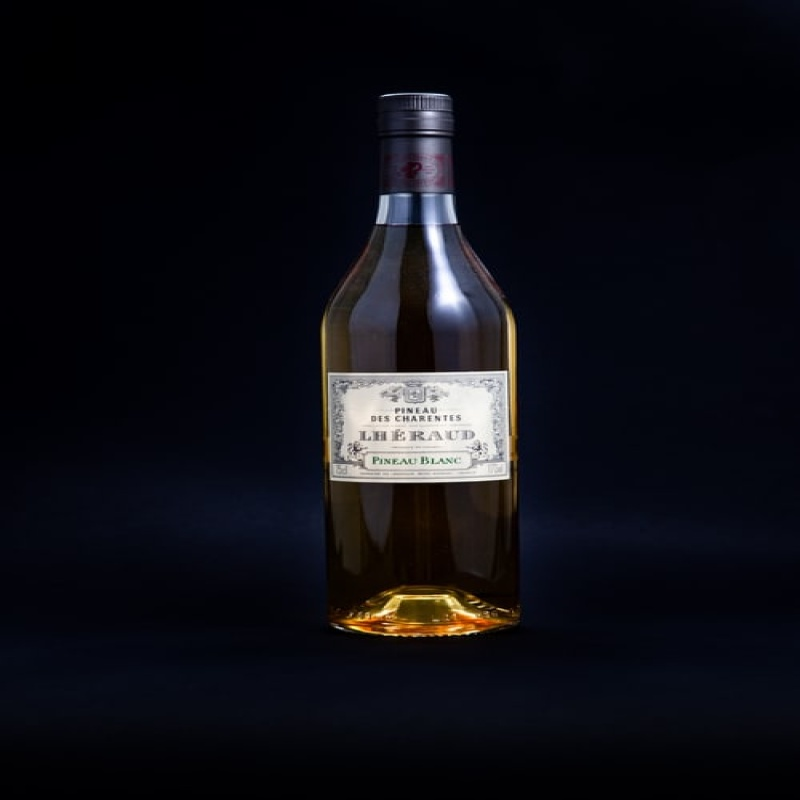wine: (322, 83, 526, 637)
